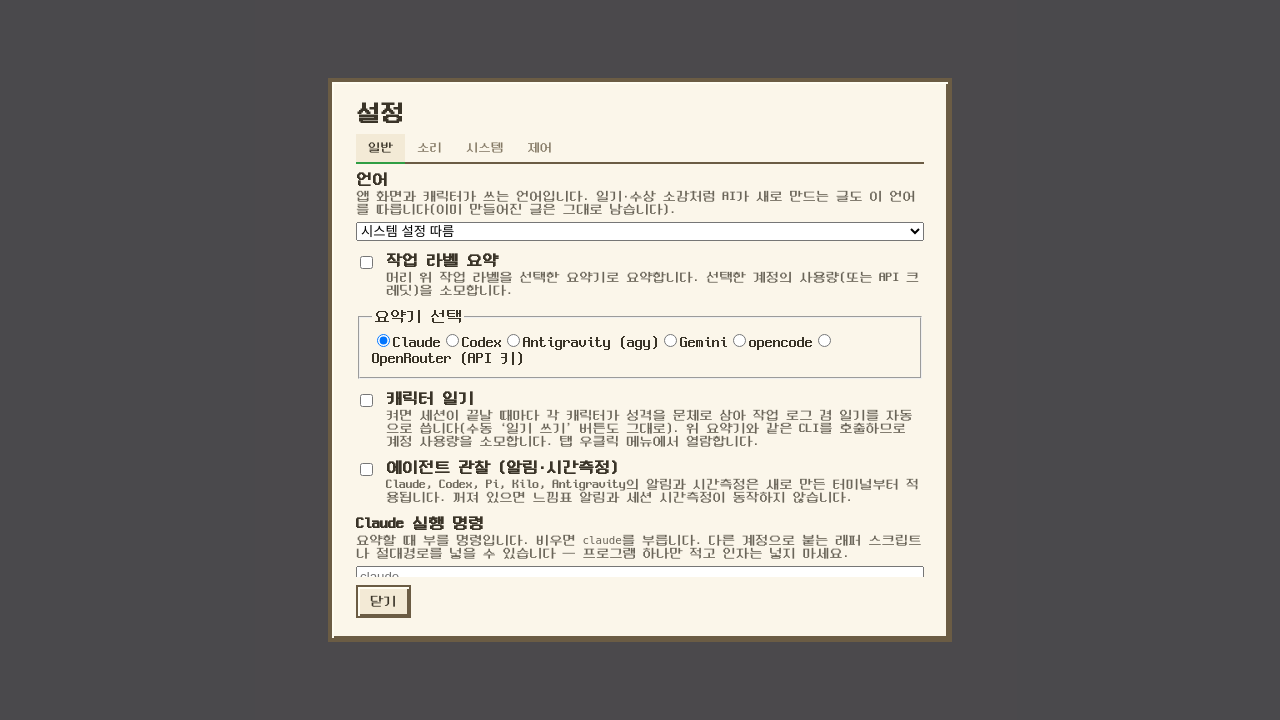
Test case: MascotLightsSection › 프로젝트 모드에서 목록이 비어 있으면 안내 문구를 보여준다
Click the tab "시스템": (485, 149) [454,134,515,164]
(page scrolled)
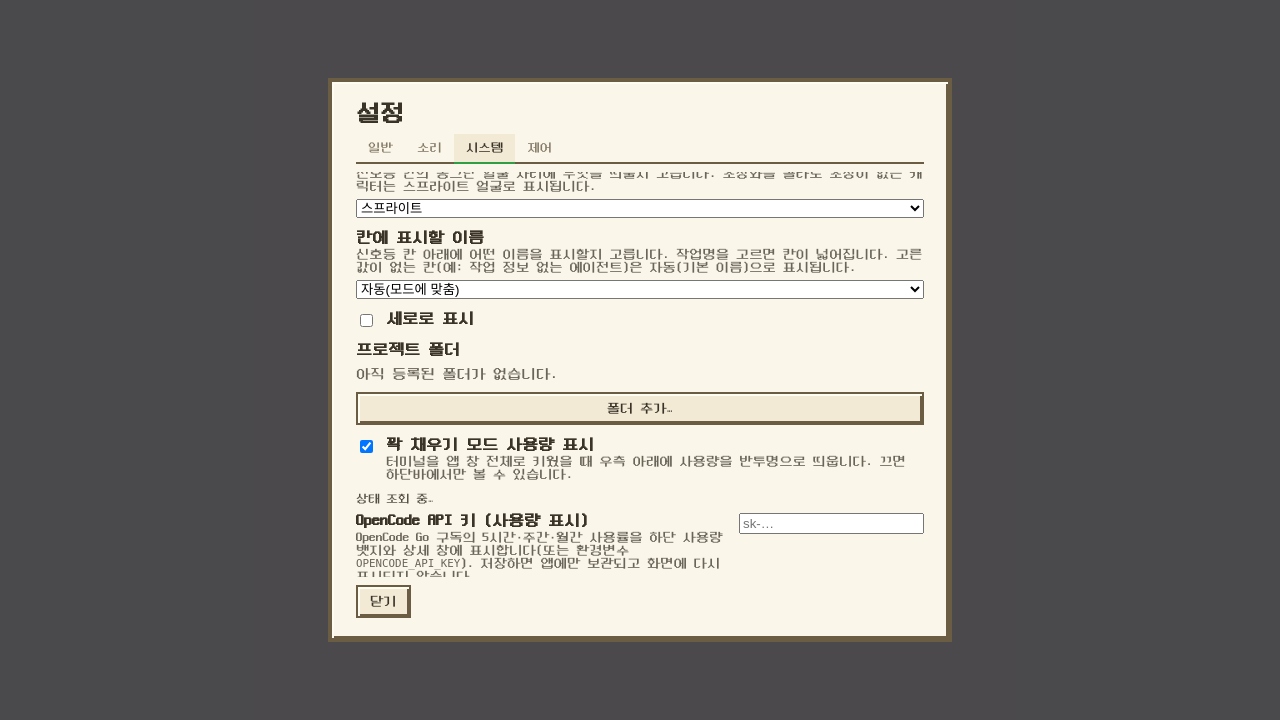
Expected: the text "아직 등록된 폴더가 없습니다." is shown, [356,367,558,382]
